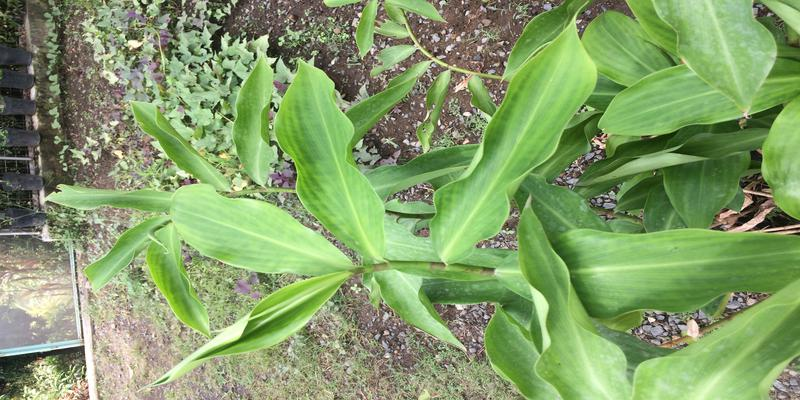Insulin: (136, 91, 798, 383)
